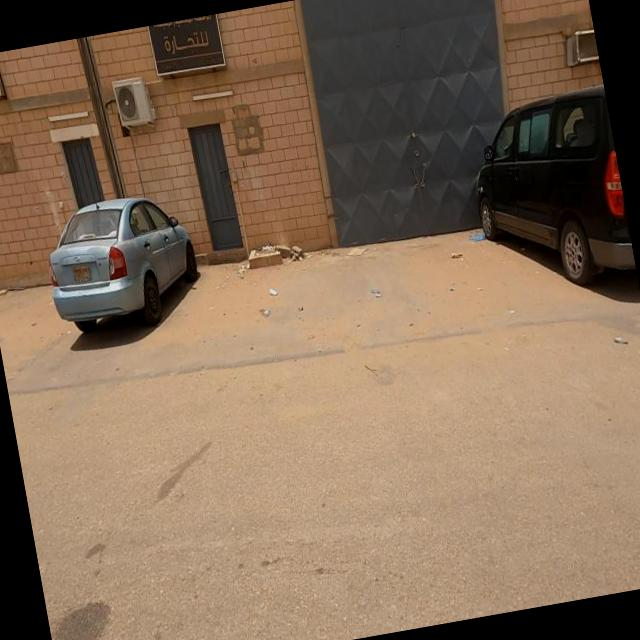debris: (236, 192, 330, 294), (234, 256, 309, 356), (206, 228, 272, 306), (446, 207, 506, 266), (348, 264, 405, 318), (594, 308, 638, 372), (435, 229, 476, 280)
